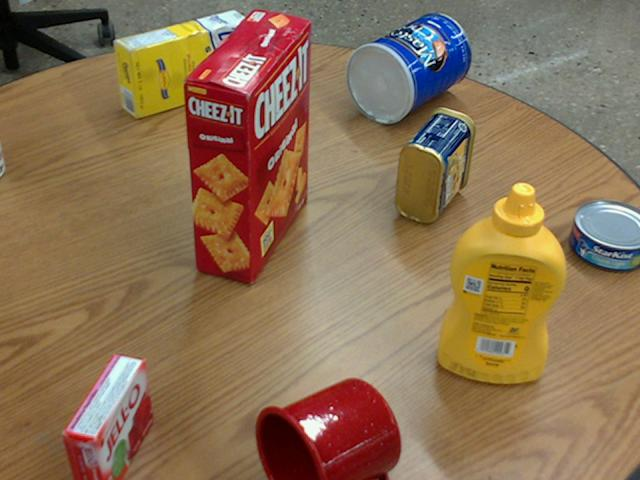cracker_box: (183, 10, 311, 282)
gelatin_box: (56, 353, 148, 479)
master_chef_can: (344, 12, 469, 122)
mug: (251, 378, 399, 479)
mustard_bottle: (436, 183, 564, 382)
potted_meat_can: (395, 107, 474, 222)
sugar_box: (114, 8, 251, 116)
tomato_soup_can: (0, 148, 3, 175)
tuna_fish_can: (567, 199, 639, 271)
